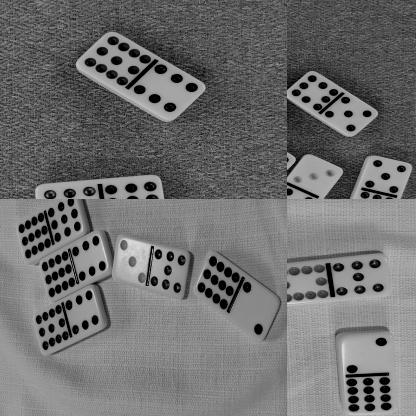pip-10: (287, 261, 330, 304)
pip-11: (77, 32, 153, 86), (33, 305, 69, 357)
pip-12: (194, 250, 240, 315), (344, 378, 398, 415), (16, 211, 51, 265), (40, 252, 76, 303)
pip-2: (239, 281, 281, 344), (340, 330, 397, 375)
pip-3: (112, 236, 150, 288), (294, 155, 344, 193)
pip-5: (324, 97, 379, 137), (366, 156, 412, 194)
pip-6: (134, 65, 206, 121), (66, 288, 104, 338), (73, 235, 108, 282)
pip-7: (330, 254, 391, 298), (150, 245, 190, 300), (36, 182, 102, 199)
pip-8: (287, 72, 340, 112)
pip-9: (102, 175, 168, 199), (49, 199, 83, 244)
